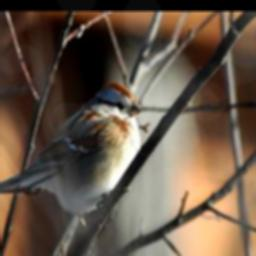Sparrow: (0, 79, 143, 226)
